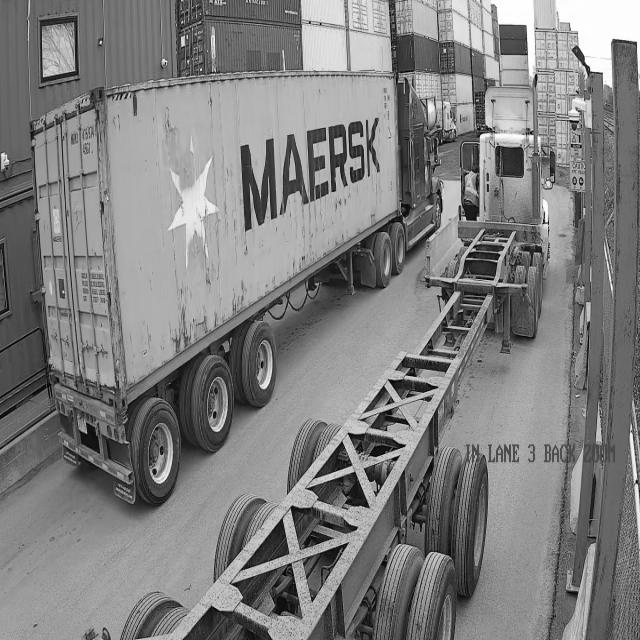container_company_logo: (240, 117, 380, 216)
driver: (458, 160, 480, 220)
truck_with_container: (32, 73, 442, 504)
truck_without_container: (152, 129, 554, 639)
